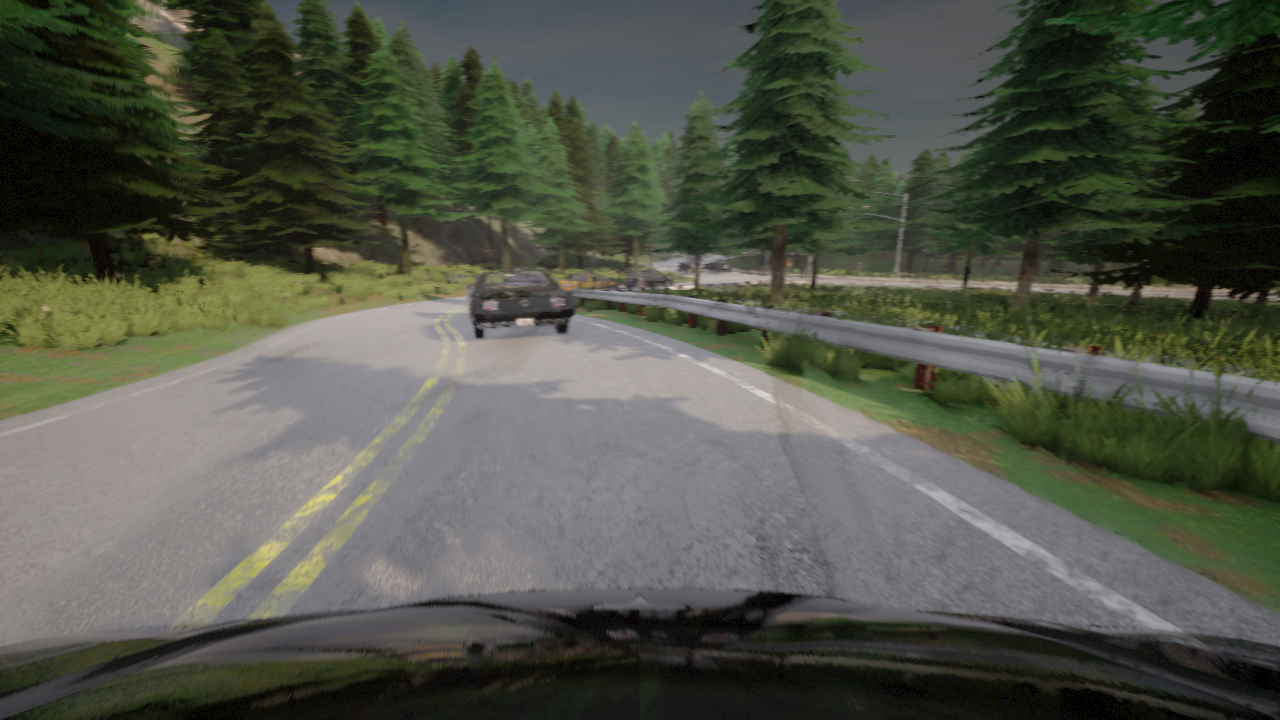cyclist: (0, 588, 1279, 719), (467, 270, 574, 338), (558, 270, 619, 291), (512, 267, 560, 287), (625, 270, 673, 287), (687, 255, 703, 262)
pedestrian: (856, 259, 862, 277), (786, 257, 790, 274)
